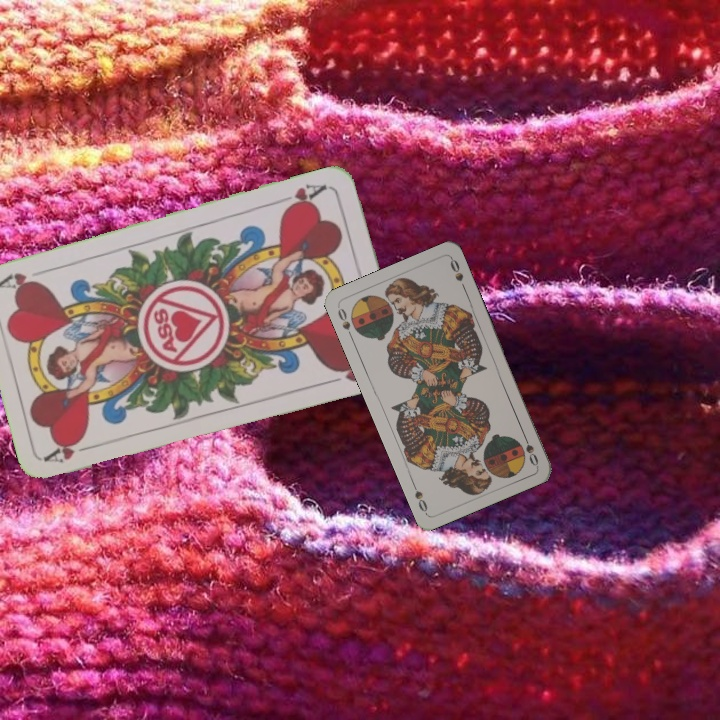HA: (42, 433, 101, 466), (273, 180, 330, 214)
SO: (519, 429, 541, 468), (334, 303, 356, 342)
